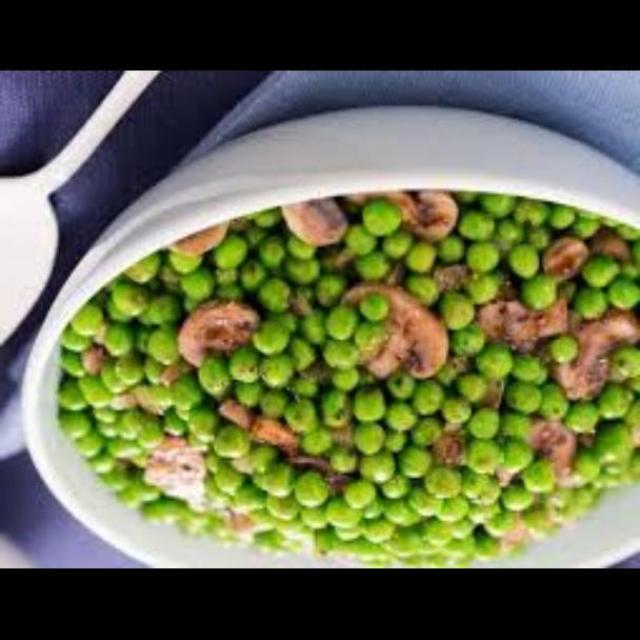peas: (337, 414, 621, 560), (44, 406, 211, 562), (228, 228, 364, 368), (408, 212, 569, 294), (98, 284, 182, 441), (224, 461, 330, 556), (454, 344, 606, 403), (316, 384, 466, 440), (229, 359, 323, 436), (153, 254, 243, 316), (579, 270, 640, 338), (604, 350, 640, 410)
